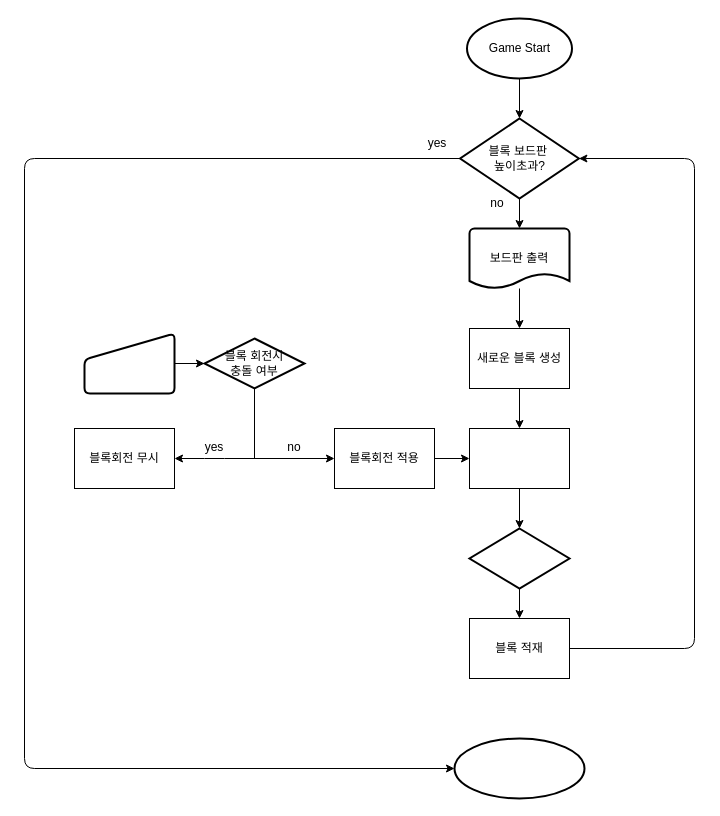
This 720x816 diagram has some shape labels left out. Each missing label, with the centre of its shape:
"Game Over" goes at (x=519, y=768).
"방향키 입력 <-, ->" goes at (x=129, y=363).
"블록 낙하" goes at (x=519, y=458).
"충돌 여부 확인" goes at (x=519, y=558).
